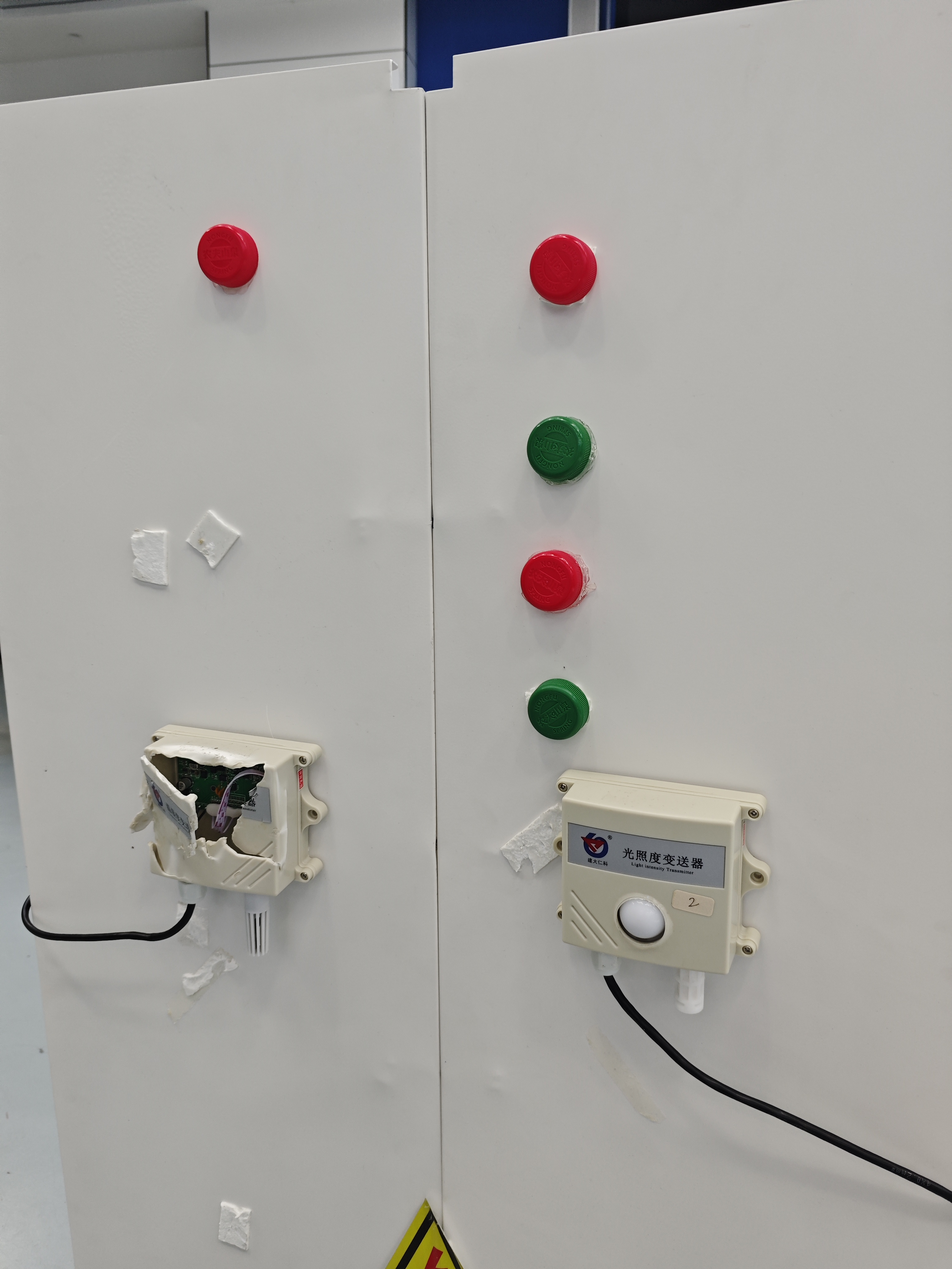red_warning: (156, 183, 314, 299), (507, 204, 638, 333), (521, 545, 595, 624)
sensor_damage: (111, 700, 348, 979)
